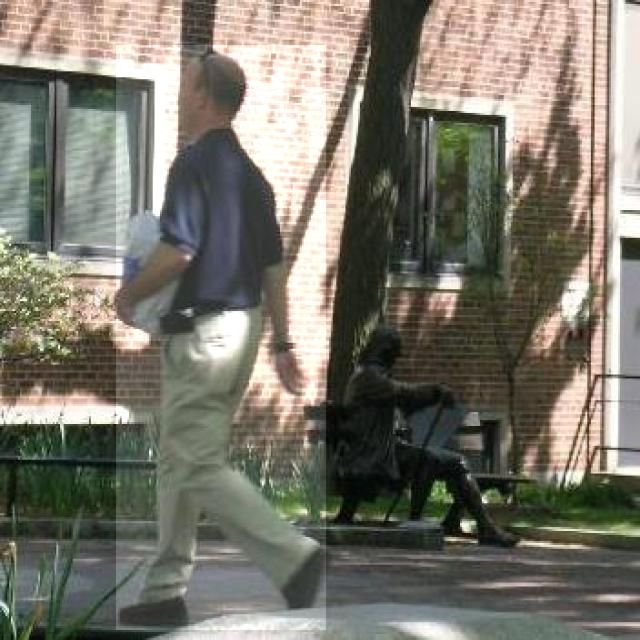with scooter: (116, 45, 326, 630)
